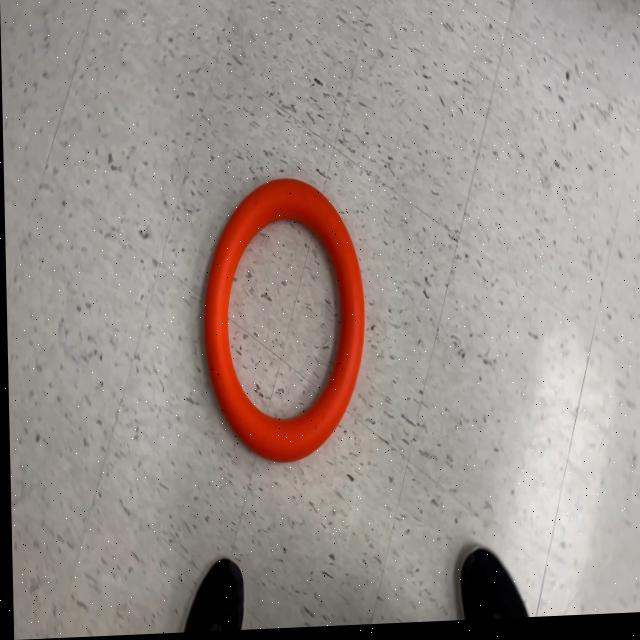note: (201, 180, 366, 466)
